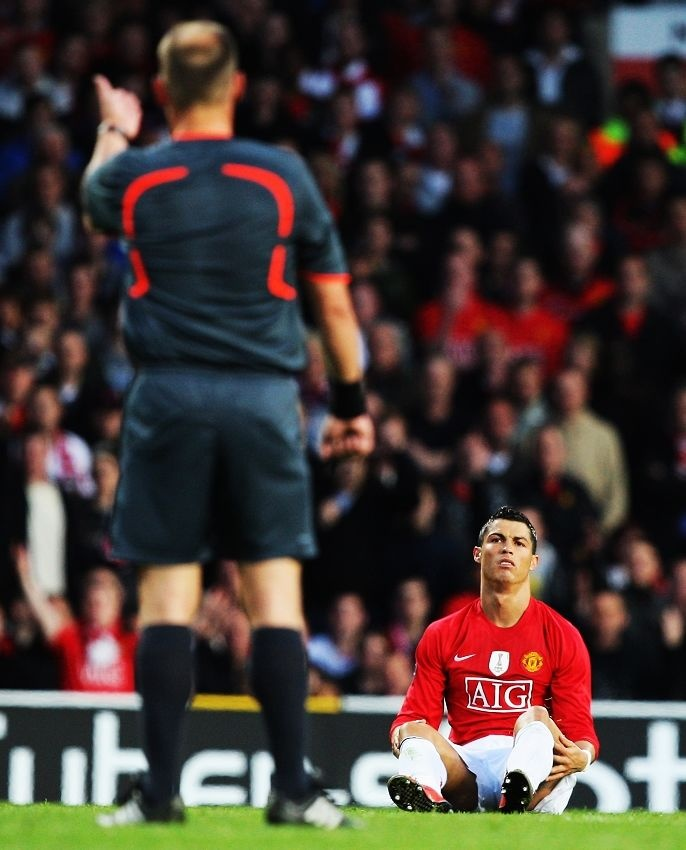falling: (365, 485, 619, 832)
